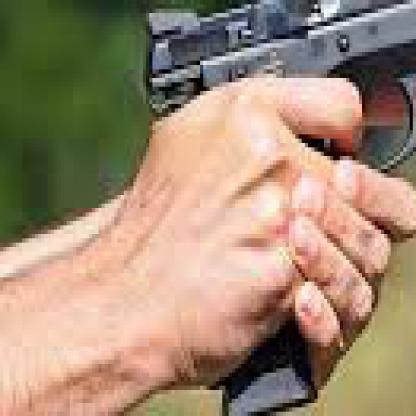gun: (19, 312, 413, 412)
